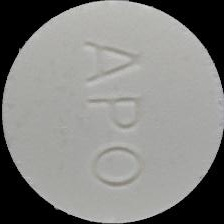60505-2676: (0, 0, 224, 224)
